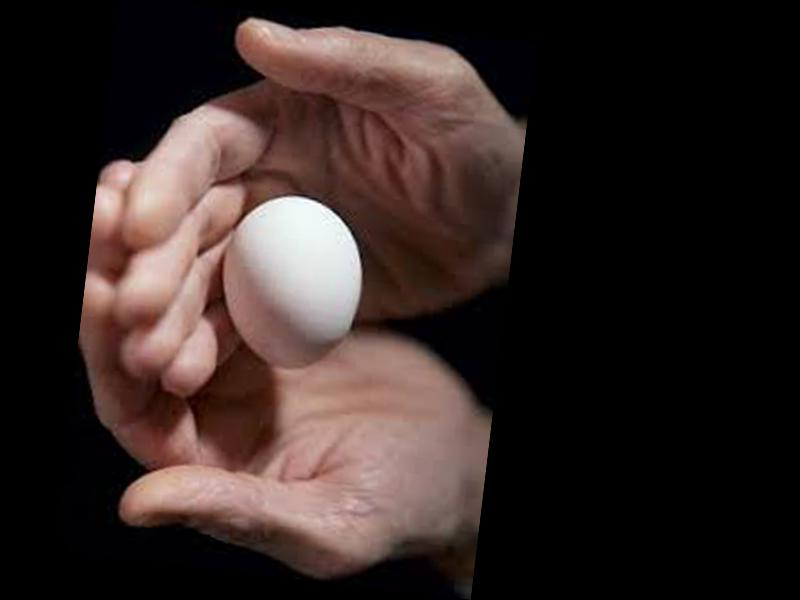Eggs: (213, 188, 372, 374)
